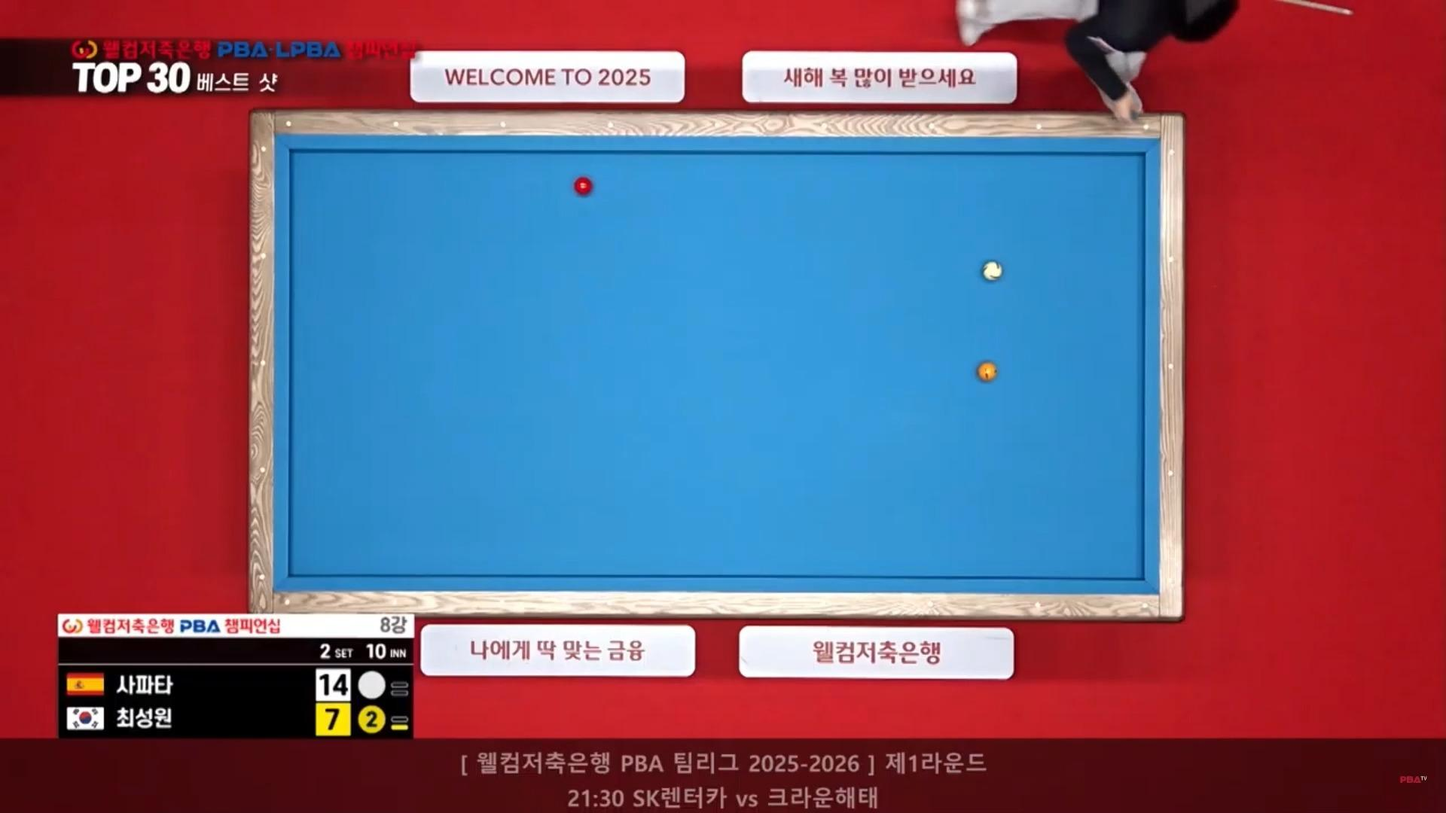Red: (571, 178, 594, 196)
White: (979, 261, 1004, 281)
Yellow: (973, 362, 999, 382)
